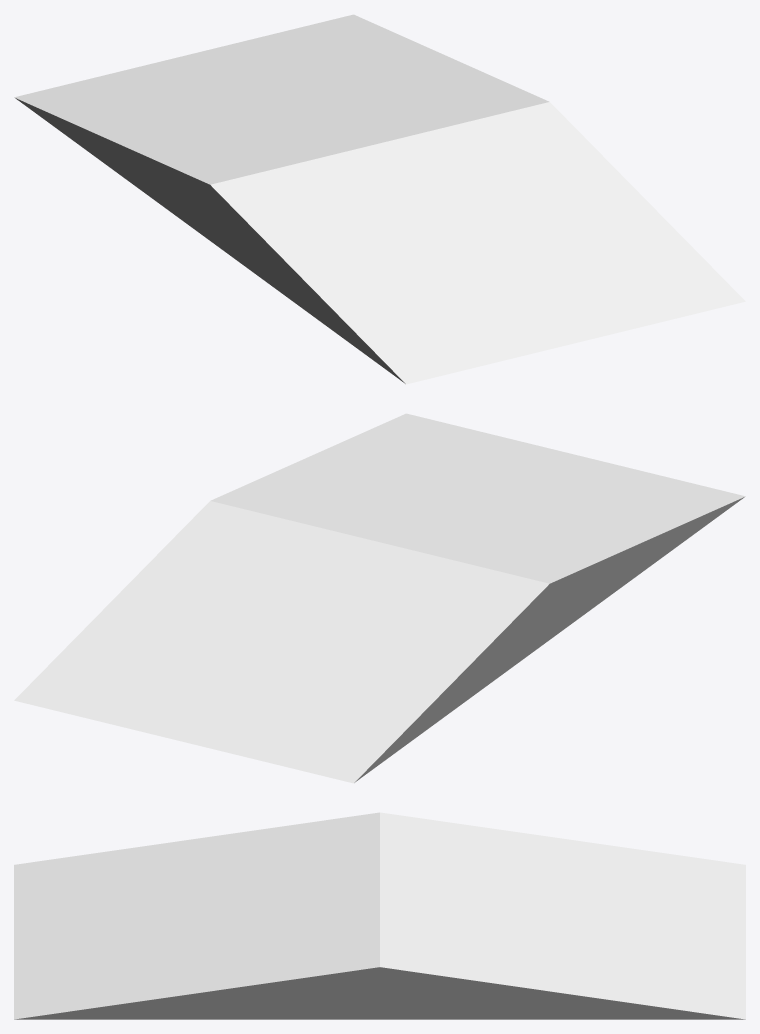
3 renders of one model, top to bottom at view 1: azimuth 30°, elevation 25°; view 2: azimuth 150°, elevation 25°; view 3: azimuth 270°, elevation 25°, orthographic. The views are drawn at different scales.
Visible parts, largest first — view 1: Cube_010; view 2: Cube_010; view 3: Cube_010.
Part boxes in pixels (box(x1,y1,x2,y2)): Cube_010: box(14, 14, 745, 384); Cube_010: box(14, 413, 745, 783); Cube_010: box(14, 812, 745, 1019).
Size of the model in its own units: 24 by 3.79 by 48.
